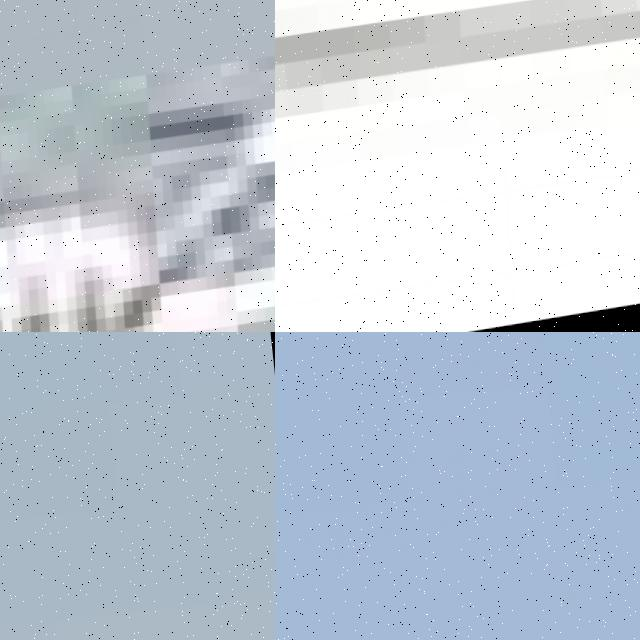0: (0, 0, 275, 332)
drone: (275, 0, 640, 332)
